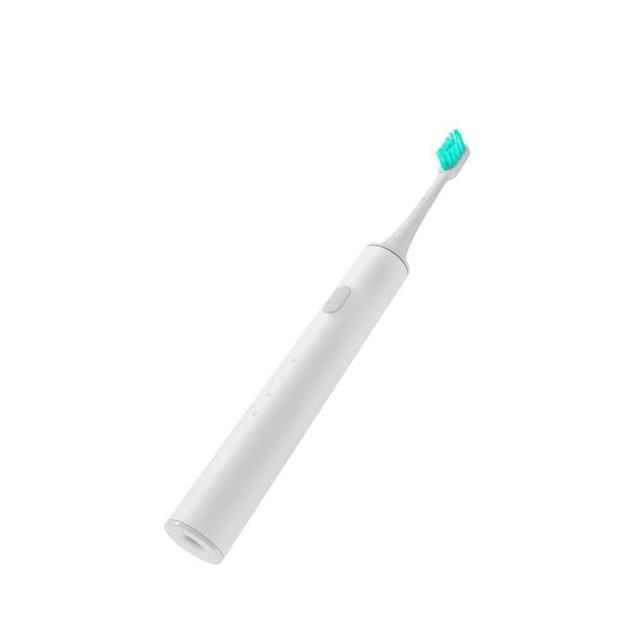toothbrush: (106, 91, 486, 627)
